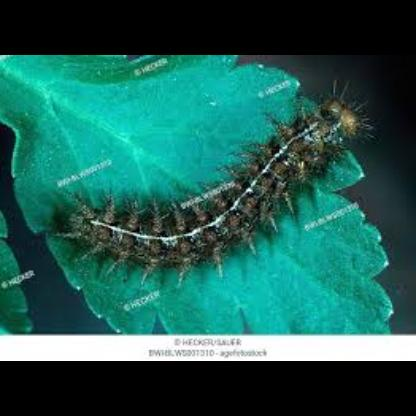oruga: (57, 86, 376, 270)
